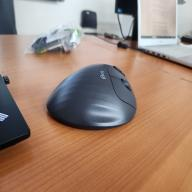mouse: (46, 64, 137, 130)
